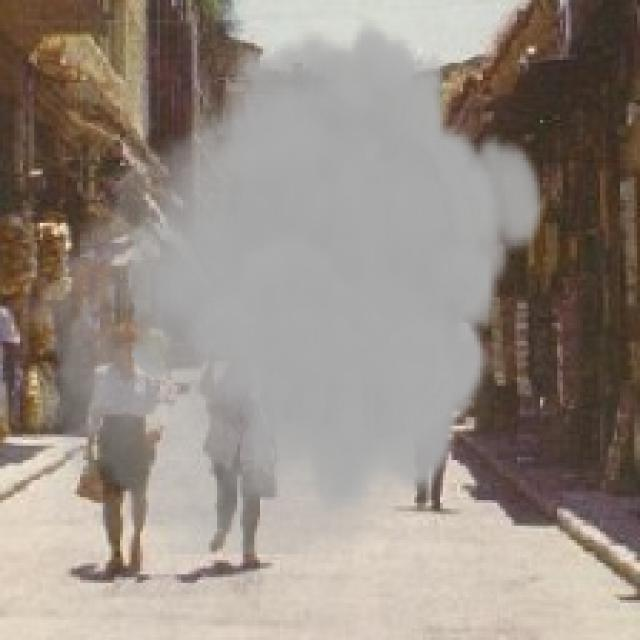Smoke: (11, 17, 548, 554)
